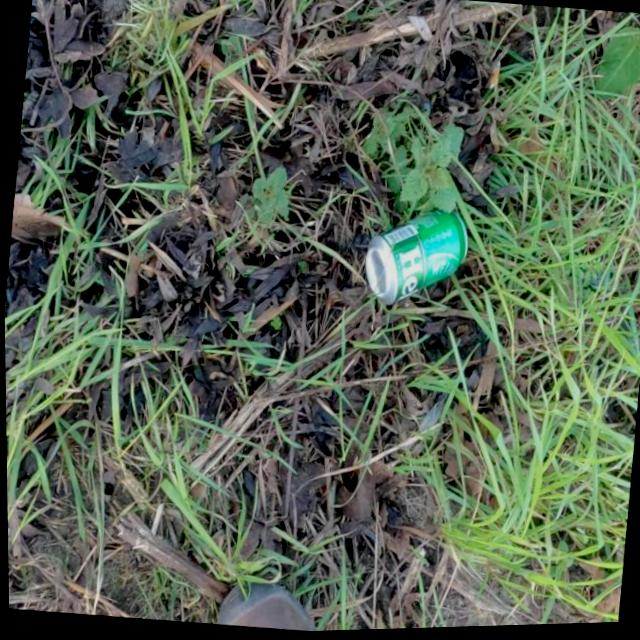Can-Metal: (357, 203, 471, 320)
